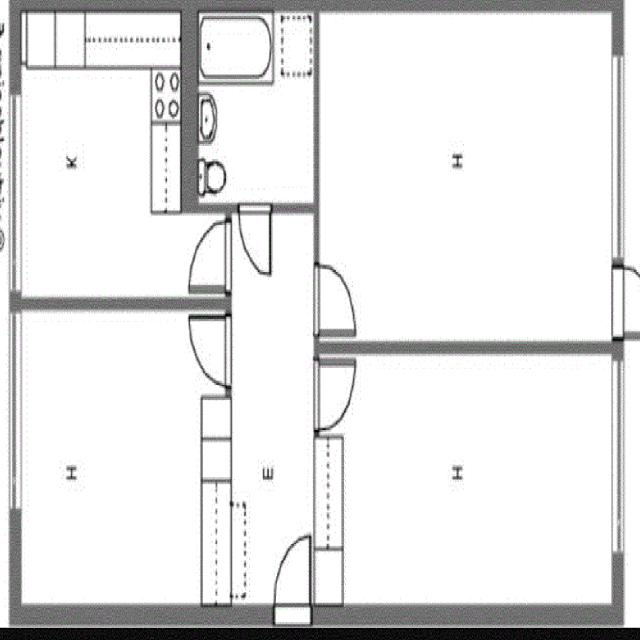door: (402, 342, 444, 436), (275, 538, 310, 627), (189, 314, 232, 385), (314, 363, 354, 429), (240, 203, 271, 273)
